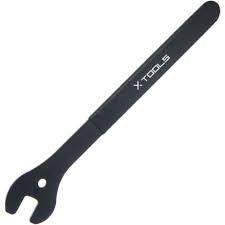wrench: (3, 0, 220, 223)
